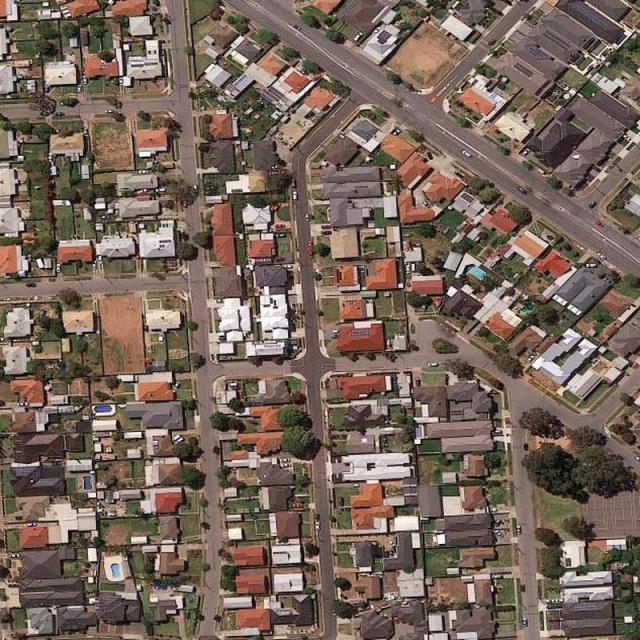vehicle: (172, 434, 182, 444), (352, 31, 362, 41), (487, 38, 496, 47), (594, 218, 604, 226), (422, 199, 430, 208), (372, 26, 381, 34), (462, 150, 471, 158), (526, 354, 535, 362), (597, 252, 606, 260), (522, 148, 530, 156), (495, 530, 503, 538), (173, 381, 180, 390), (315, 522, 321, 532), (587, 202, 597, 208), (586, 263, 598, 268), (292, 23, 300, 30), (518, 187, 526, 194), (426, 152, 433, 160), (273, 202, 280, 210), (279, 457, 290, 462), (171, 434, 180, 440), (54, 263, 60, 272), (192, 183, 198, 192), (522, 618, 528, 627), (415, 377, 421, 386), (83, 127, 88, 137), (280, 462, 290, 467), (182, 198, 187, 208), (308, 250, 313, 260), (54, 112, 66, 116), (426, 361, 438, 365), (214, 298, 223, 303), (290, 178, 295, 187), (291, 190, 296, 199), (138, 170, 149, 174), (274, 225, 285, 229), (274, 233, 285, 237), (406, 263, 410, 274), (388, 539, 394, 546), (118, 78, 123, 86), (26, 522, 36, 526), (517, 526, 521, 536), (521, 584, 525, 594), (83, 75, 87, 84), (105, 110, 114, 114), (93, 261, 97, 270), (19, 402, 28, 406), (11, 554, 20, 558), (294, 505, 303, 509), (304, 212, 308, 221), (321, 225, 330, 229), (321, 230, 330, 234), (394, 614, 398, 623), (156, 189, 167, 192), (78, 85, 82, 93), (410, 264, 414, 272), (98, 256, 102, 264), (46, 86, 50, 93), (314, 513, 318, 520), (392, 130, 399, 134), (306, 241, 310, 246), (49, 154, 51, 161)
